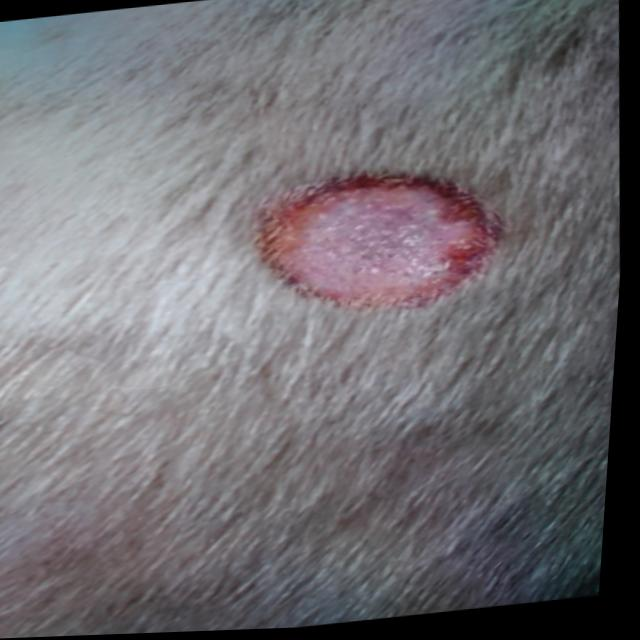ringworm: (235, 144, 525, 349)
